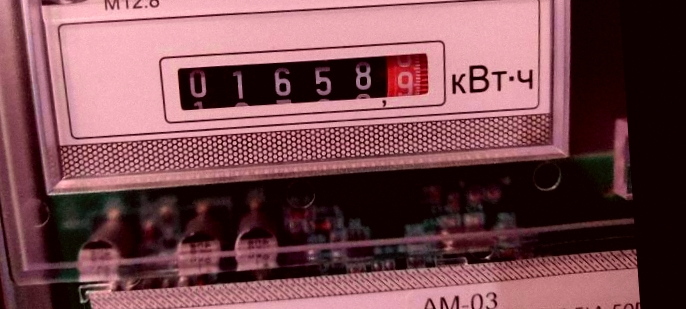0: (186, 67, 208, 98)
1: (229, 67, 249, 100)
5: (311, 63, 334, 95)
6: (271, 63, 293, 97)
8: (352, 57, 374, 91)
9: (393, 68, 416, 98)
screen: (149, 28, 454, 131)
